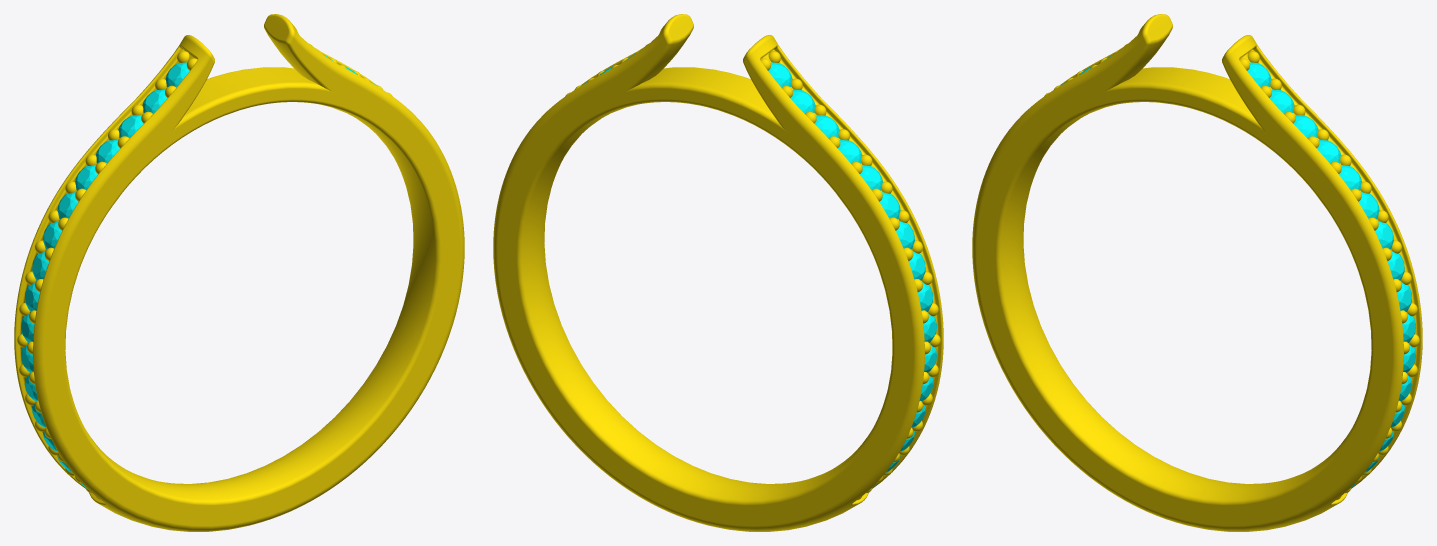
Rendered from CATHEDRAL-SIDE-STONE.glb.
The picture shows the model from 3 angles, left to right: view 1: azimuth 30°, elevation 25°; view 2: azimuth 150°, elevation 25°; view 3: azimuth 330°, elevation 25°; orthographic projection.
Visible parts, largest first — view 1: SH-Pave-33dm; view 2: SH-Pave-33dm; view 3: SH-Pave-33dm.
Boxes of the visible parts, x1,y1,x2,y2 form: SH-Pave-33dm: (14,14,464,531); SH-Pave-33dm: (493,14,943,531); SH-Pave-33dm: (972,14,1422,531).
Size of the model in its own units: 16.01 by 17.5 by 1.63.
